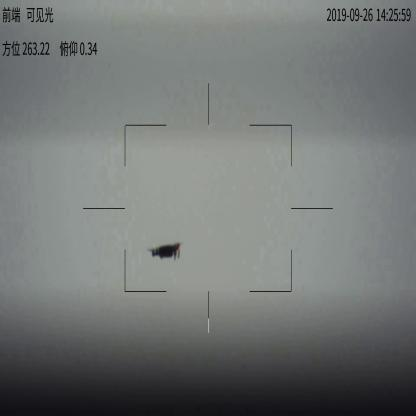uav: (146, 241, 184, 261)
